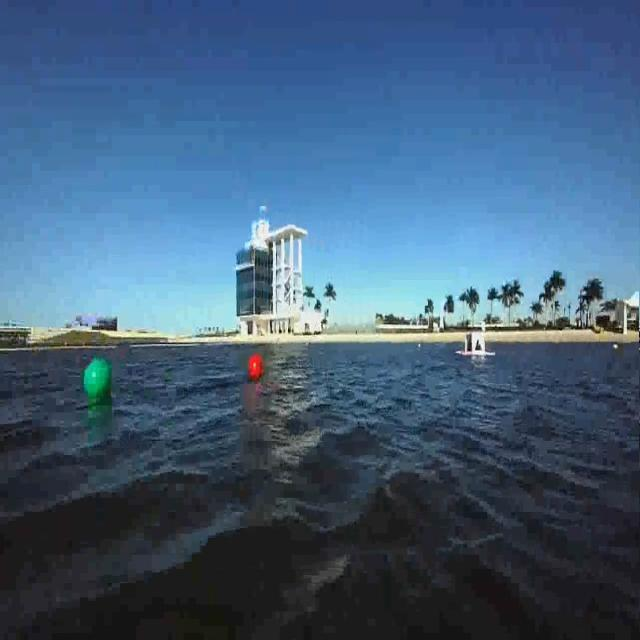green-buoy: (84, 359, 114, 400)
red-buoy: (248, 352, 264, 379)
